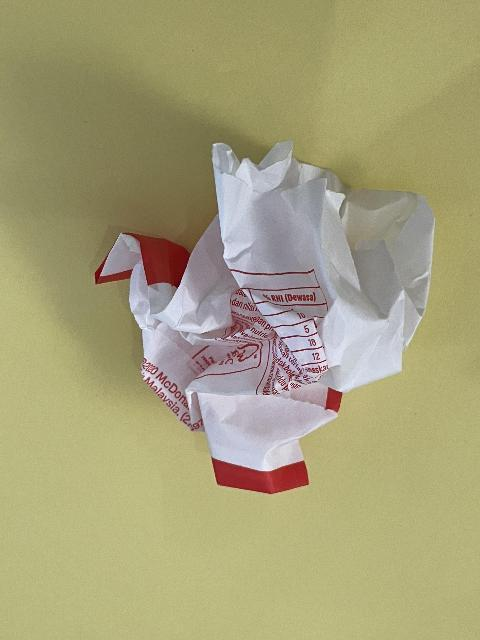paperbag: (93, 138, 439, 496)
